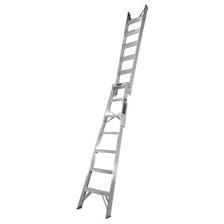Hand: (4, 10, 139, 209), (88, 104, 127, 177)
